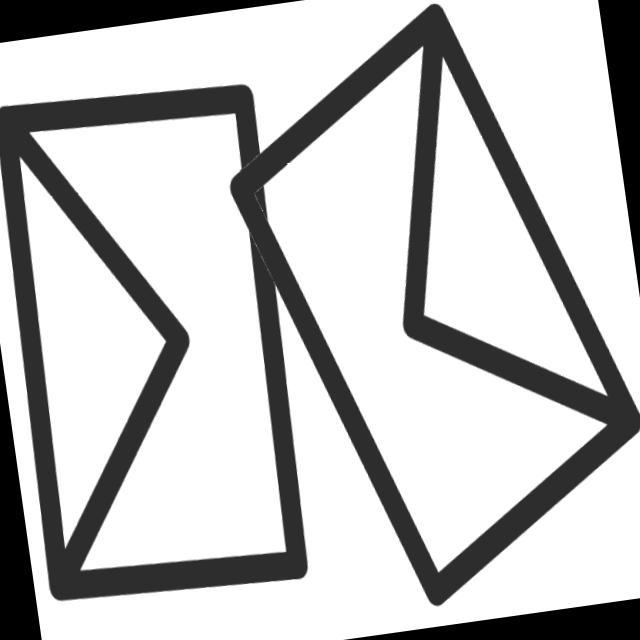letter: (217, 1, 640, 624), (1, 60, 330, 633)
